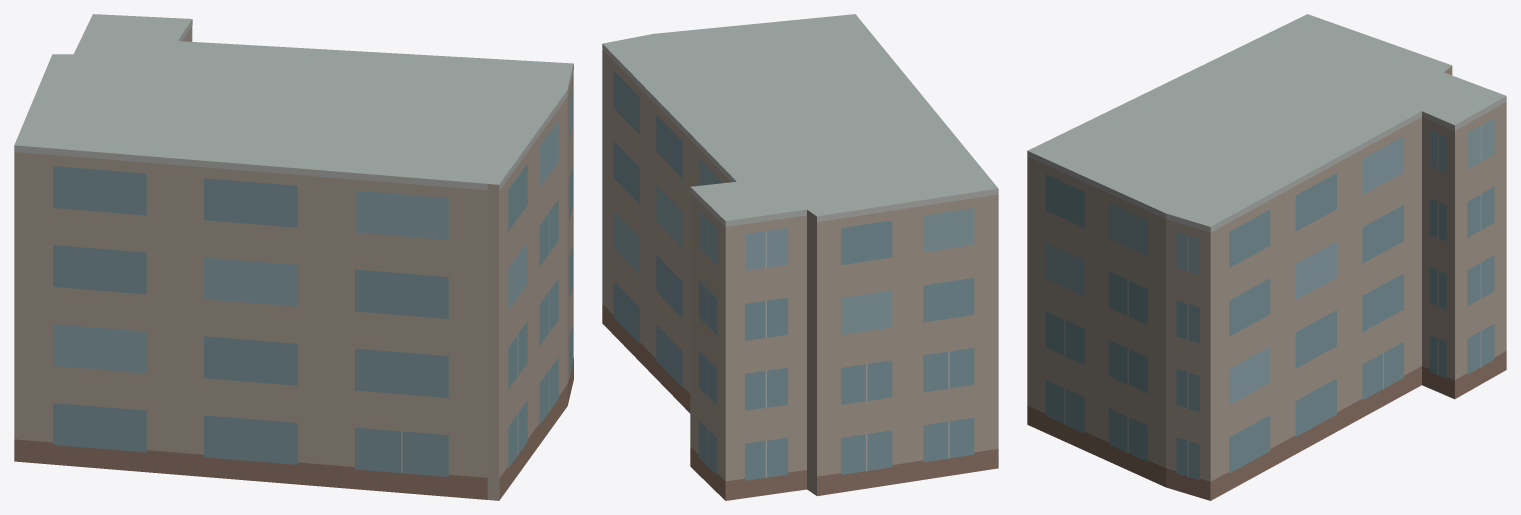
Rendered from survey-upis-32824401.glb.
3 renders of one model, left to right at view 1: azimuth 30°, elevation 25°; view 2: azimuth 150°, elevation 25°; view 3: azimuth 270°, elevation 25°, orthographic. The views are drawn at different scales.
Visible parts, largest first — view 1: survey-upis-32824401.tmp; view 2: survey-upis-32824401.tmp; view 3: survey-upis-32824401.tmp.
Boxes of the visible parts, x1,y1,x2,y2 form: survey-upis-32824401.tmp: (14,14,573,500); survey-upis-32824401.tmp: (602,14,998,500); survey-upis-32824401.tmp: (1027,14,1506,500).
Bounding box in the file's own units: 19.52 × 11.7 × 18.56.
